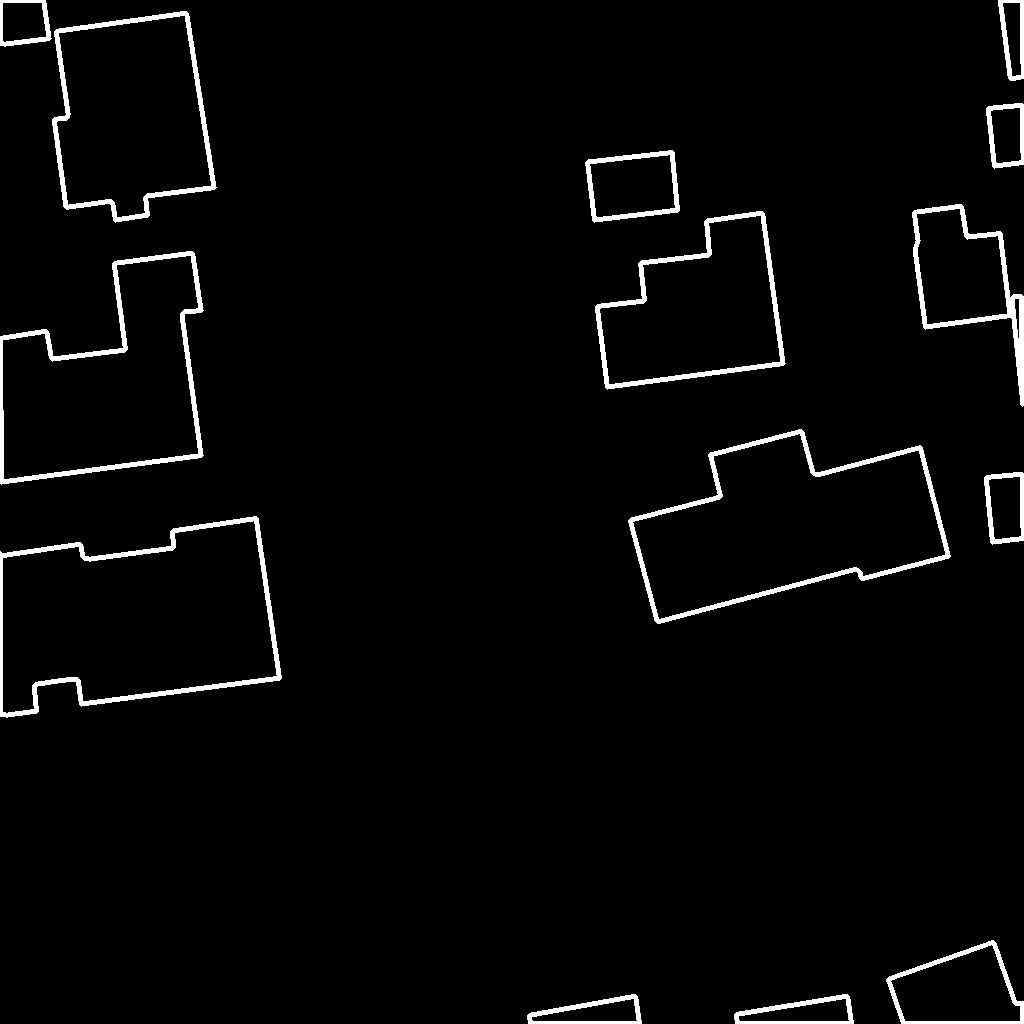building: (630, 431, 950, 623), (0, 518, 281, 716), (0, 253, 202, 483), (54, 13, 215, 221), (597, 213, 784, 388), (914, 206, 1011, 328), (888, 942, 1024, 1024), (986, 296, 1024, 543), (587, 152, 679, 221), (736, 996, 853, 1024), (529, 996, 641, 1024), (0, 0, 50, 45), (988, 105, 1024, 167), (1000, 0, 1024, 80)
